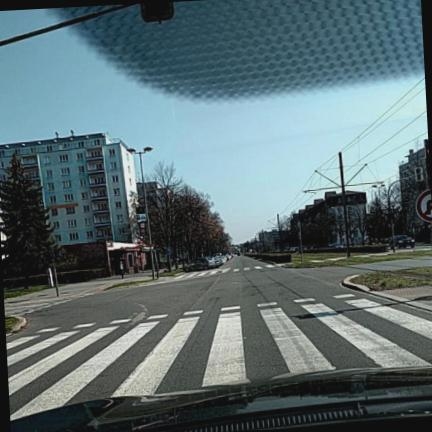Road: (6, 257, 431, 419)
